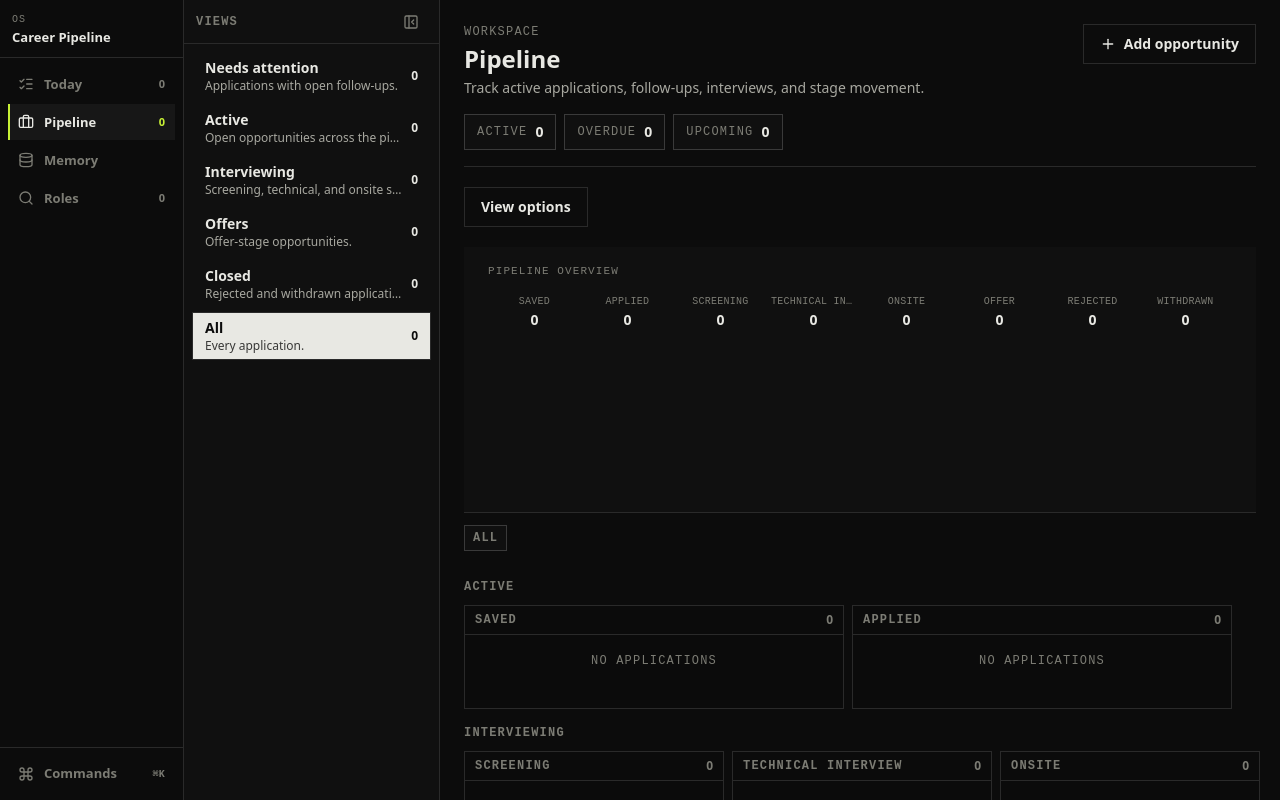
Test: Job application tracker shell › opens a command palette from global navigation and runs workspace commands
Check: the navigation bar named "Global navigation" is shown, box [0,0,184,799]
Click the button with aria-label "Open command palette".
click(92, 774)  # box [8,756,175,792]
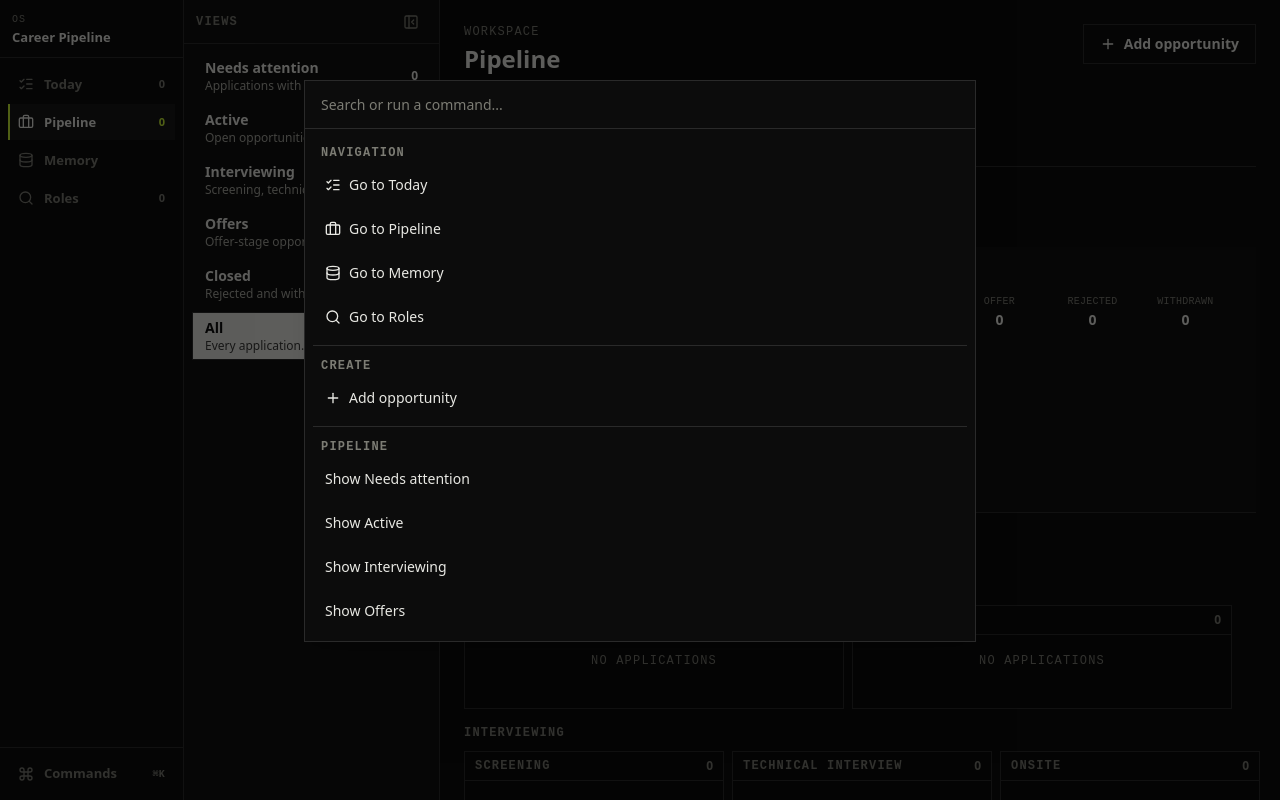
Check: the heading "Navigation" is shown, box [321,146,405,160]
Check: the heading "Pipeline" is shown, box [321,440,388,454]
Click the button "Go to Memory".
click(396, 272)  # box [313,253,967,293]
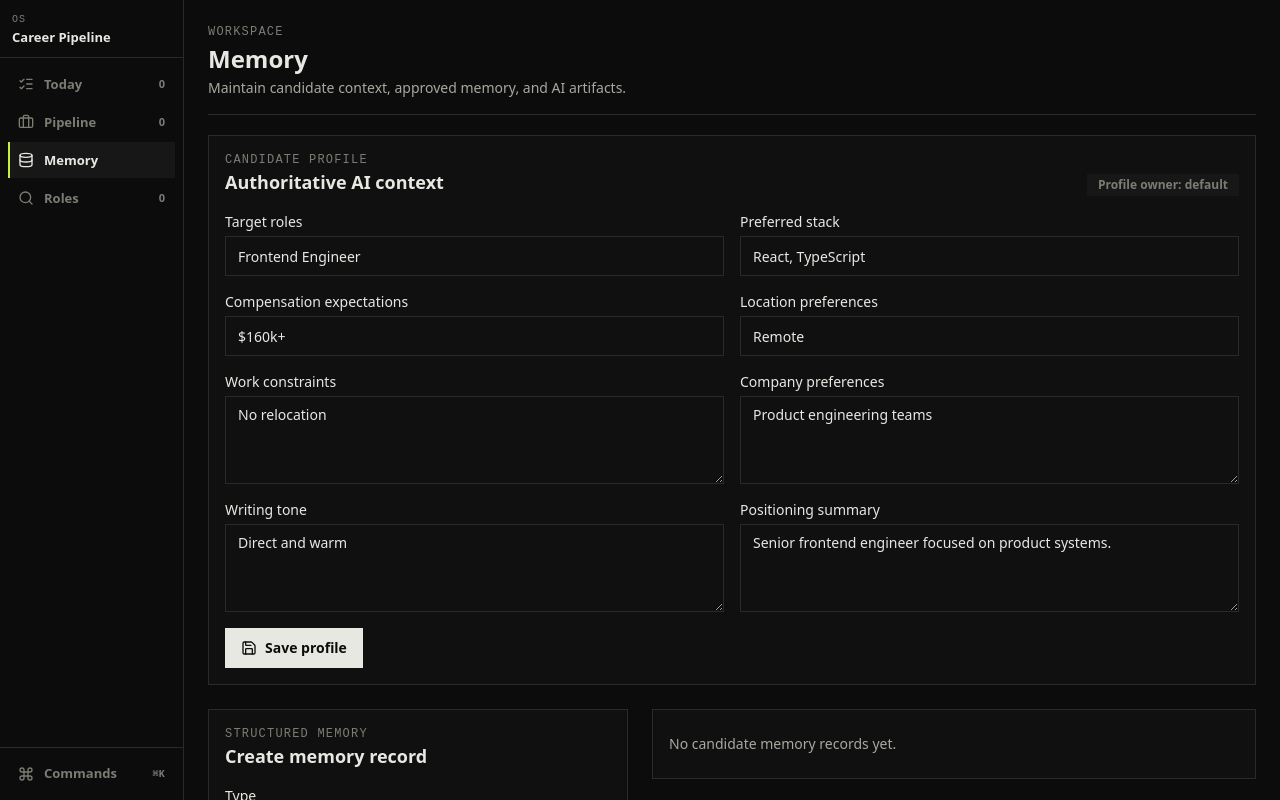
Check: the field labelled "Target roles" is shown, box [225,236,724,276]
